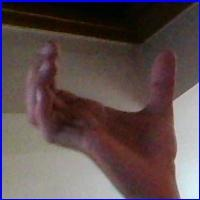space: (28, 31, 185, 167)
